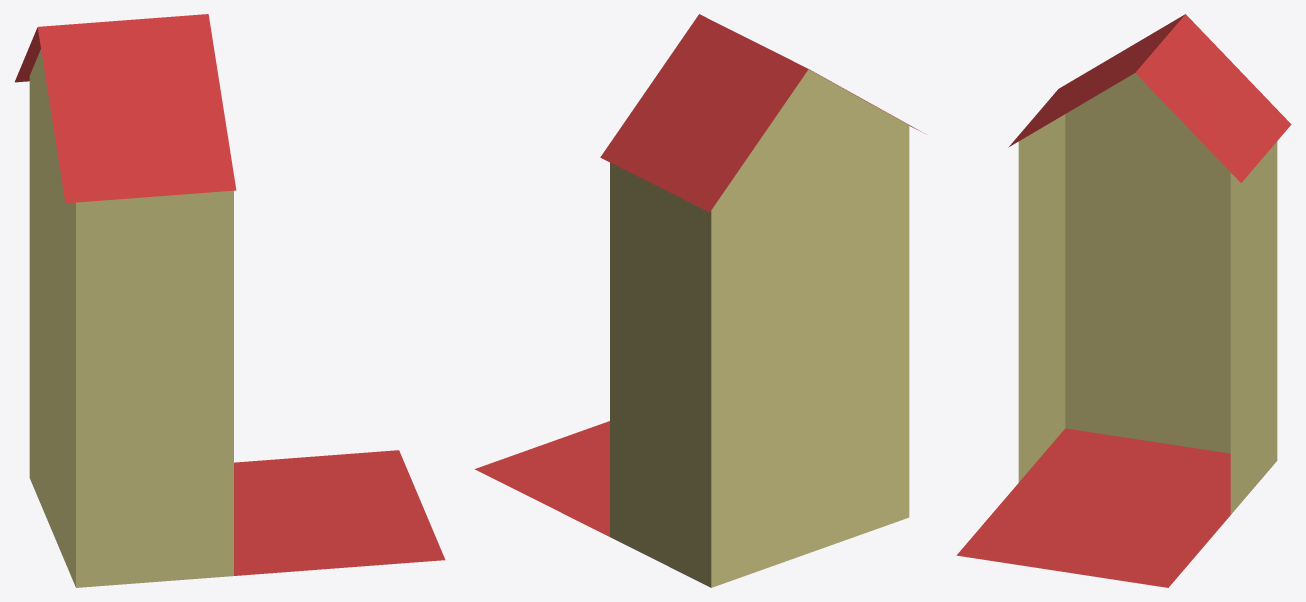
3 renders of one model, left to right at view 1: azimuth 30°, elevation 25°; view 2: azimuth 150°, elevation 25°; view 3: azimuth 270°, elevation 25°, orthographic. The views are drawn at different scales.
Size of the model in its own units: 8.75 by 7.48 by 10.54.
